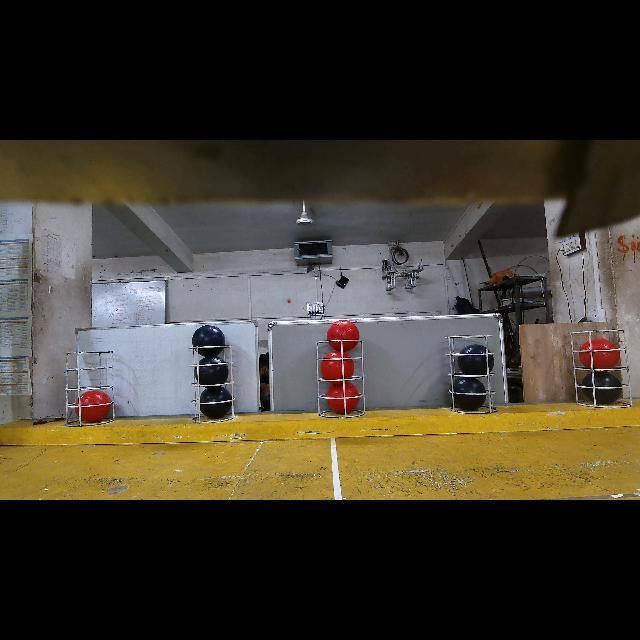P: (584, 371, 625, 406), (454, 376, 488, 411), (458, 344, 494, 375), (199, 386, 231, 419), (192, 325, 225, 356), (194, 355, 228, 385)
R: (75, 390, 112, 424), (579, 339, 620, 369), (320, 350, 355, 384), (326, 382, 359, 414), (326, 320, 360, 351)
S: (570, 328, 632, 408), (444, 335, 501, 415), (316, 338, 366, 418), (65, 349, 115, 427), (189, 346, 235, 424)
